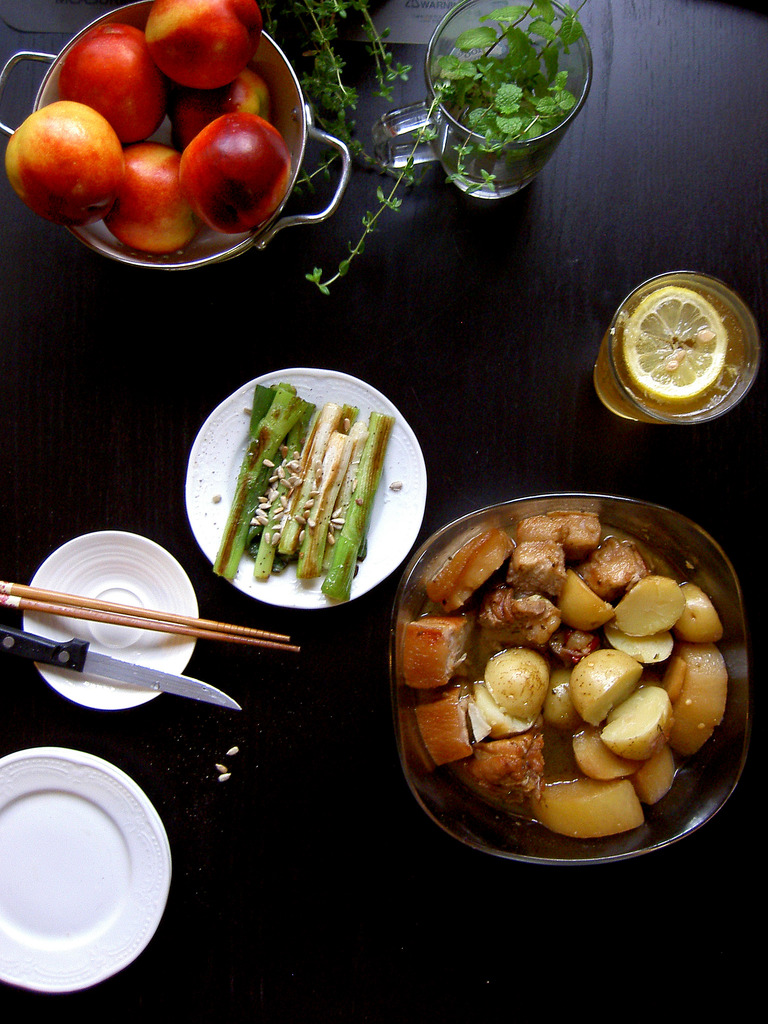boiled potatoes: (666, 635, 727, 767), (538, 772, 662, 835), (562, 718, 657, 779), (487, 651, 550, 737), (616, 685, 674, 763), (574, 649, 632, 717), (621, 582, 682, 630), (607, 622, 675, 662), (685, 582, 718, 647), (570, 574, 606, 623)
